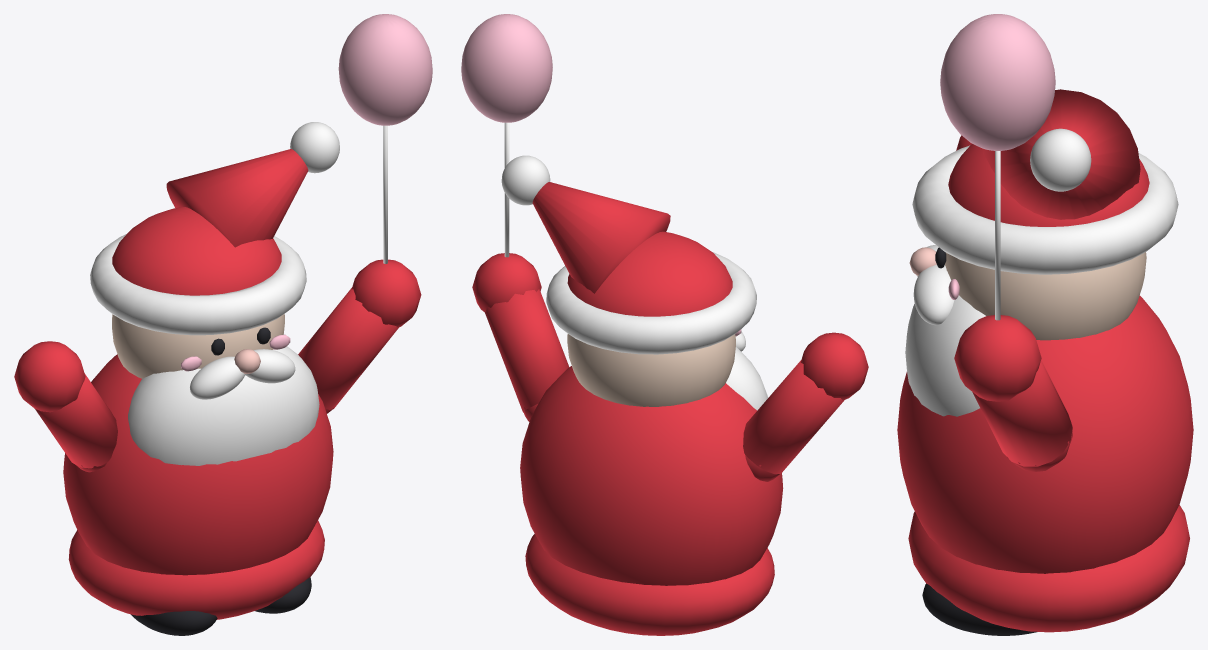
Rendered from wheel.glb.
The picture shows the model from 3 angles, left to right: view 1: azimuth 30°, elevation 25°; view 2: azimuth 150°, elevation 25°; view 3: azimuth 270°, elevation 25°; orthographic projection. The views are drawn at different scales.
Parts seen in each view (by area): view 1: wheel_red, wheel_white, wheel_pink, wheel_skin, wheel_black; view 2: wheel_red, wheel_white, wheel_skin, wheel_pink; view 3: wheel_red, wheel_white, wheel_pink, wheel_skin, wheel_black, wheel_nose.
Boxes of the visible parts, <box> form: wheel_red: <box>14,149,421,619</box>; wheel_white: <box>90,122,387,465</box>; wheel_pink: <box>181,14,432,371</box>; wheel_skin: <box>112,314,284,378</box>; wheel_black: <box>131,327,311,635</box>; wheel_red: <box>472,182,868,635</box>; wheel_white: <box>501,122,767,410</box>; wheel_skin: <box>567,334,735,406</box>; wheel_pink: <box>461,14,741,336</box>; wheel_red: <box>897,89,1193,632</box>; wheel_white: <box>905,128,1178,416</box>; wheel_pink: <box>940,14,1055,299</box>; wheel_skin: <box>945,252,1146,340</box>; wheel_black: <box>922,247,1036,635</box>; wheel_nose: <box>909,247,936,275</box>.
Size of the model in its own units: 3.03 by 3.98 by 1.56.
